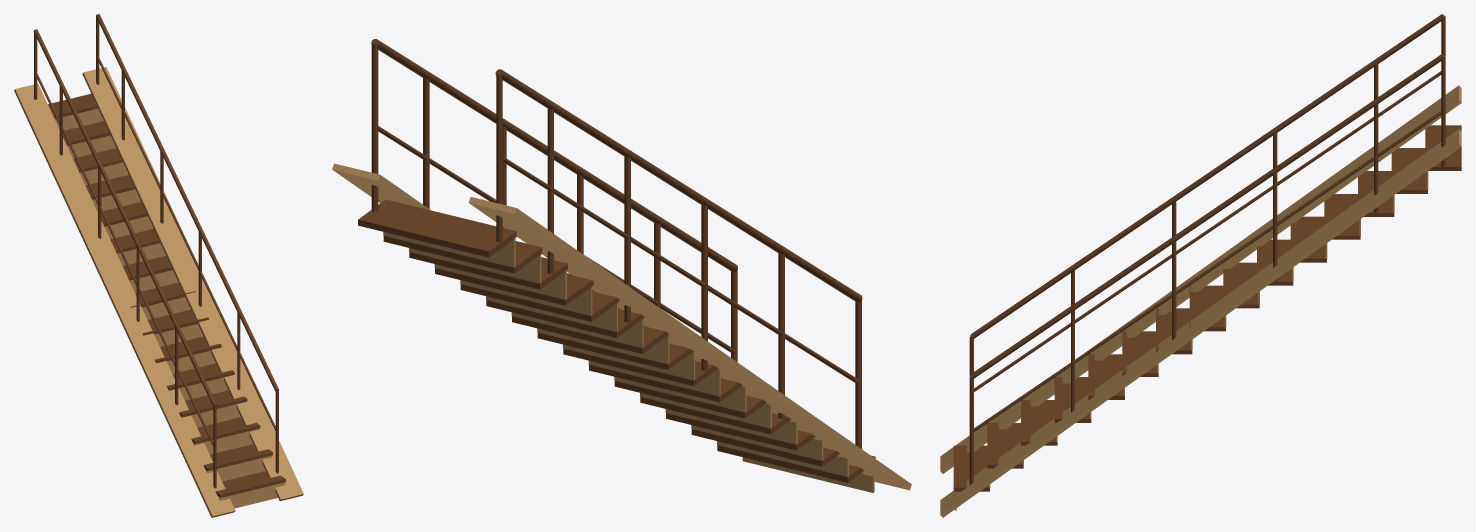
The model's file is circulation.stair.timber_800.glb.
3 renders of one model, left to right at view 1: azimuth 30°, elevation 25°; view 2: azimuth 150°, elevation 25°; view 3: azimuth 270°, elevation 25°, orthographic. The views are drawn at different scales.
Parts seen in each view (by area): view 1: flight__softwood, flight__hardwood, balustrade__hardwood; view 2: flight__softwood, flight__hardwood, balustrade__hardwood; view 3: flight__softwood, balustrade__hardwood, flight__hardwood.
Boxes of the visible parts, x1,y1,x2,y2 form: flight__softwood: (14,67,303,517); flight__hardwood: (48,94,285,497); balustrade__hardwood: (33,14,278,488); flight__softwood: (332,163,911,492); flight__hardwood: (358,199,875,482); balustrade__hardwood: (371,39,862,467); flight__softwood: (940,85,1461,517); balustrade__hardwood: (969,14,1445,484); flight__hardwood: (953,125,1461,491).
Bounding box in the file's own units: 1.03 × 3.73 × 3.87.
